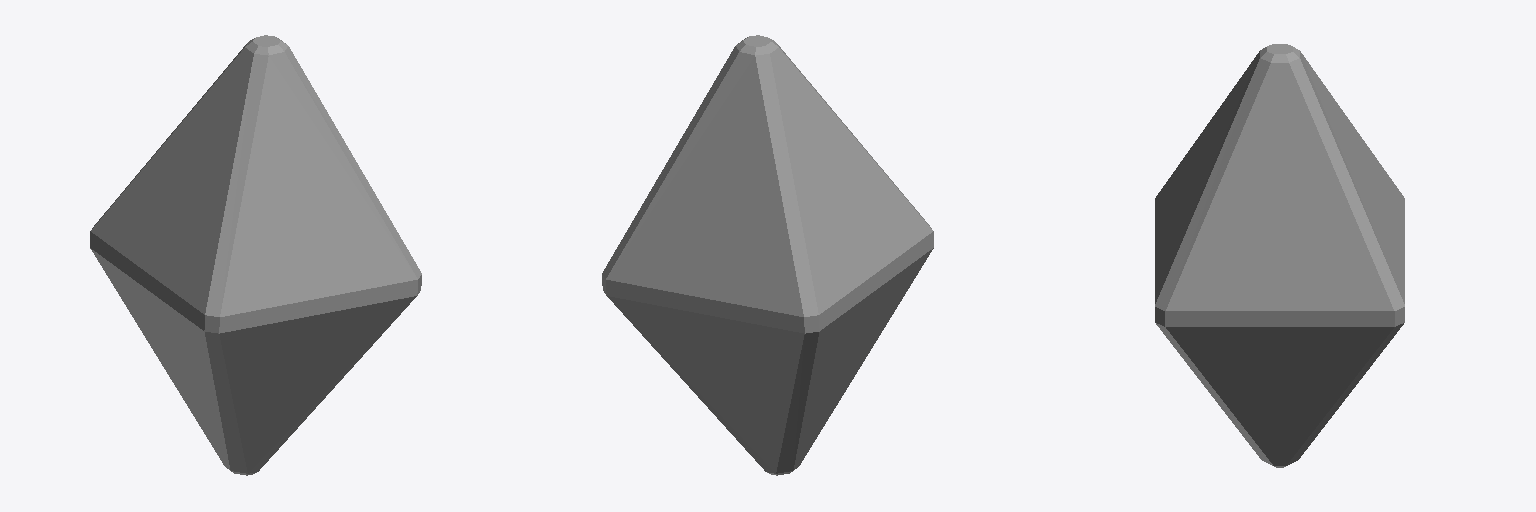
File: mese.obj
3 views of the same model, side by side, from view 1: azimuth 30°, elevation 25°; view 2: azimuth 150°, elevation 25°; view 3: azimuth 270°, elevation 25° (orthographic).
Parts seen in each view (by area): view 1: Cube.001_Cube.000; view 2: Cube.001_Cube.000; view 3: Cube.001_Cube.000.
Part boxes in pixels (left/top/right/bottom): Cube.001_Cube.000: left=90, top=35, right=421, bottom=475; Cube.001_Cube.000: left=602, top=35, right=933, bottom=475; Cube.001_Cube.000: left=1155, top=44, right=1404, bottom=467.
Bounding box in the file's own units: 0.5709 × 1.06 × 0.57.